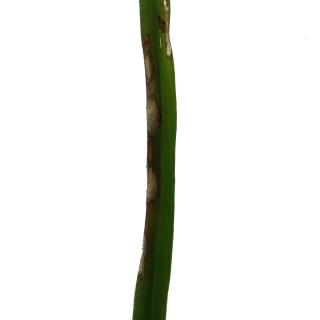Hawar-Daun: (146, 160, 168, 215), (138, 35, 159, 89), (146, 99, 168, 148)
